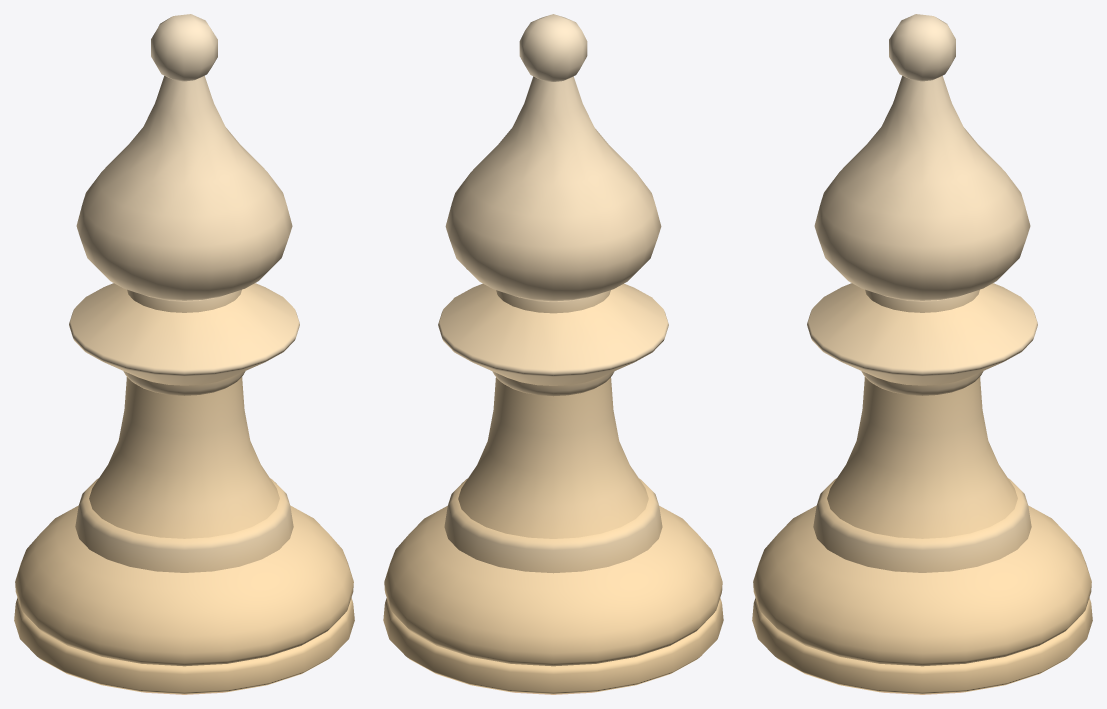
Rendered from Chess_White_Bishop_01.glb.
3 renders of one model, left to right at view 1: azimuth 30°, elevation 25°; view 2: azimuth 150°, elevation 25°; view 3: azimuth 270°, elevation 25°, orthographic.
Parts seen in each view (by area): view 1: Chess_White_Bishop_01; view 2: Chess_White_Bishop_01; view 3: Chess_White_Bishop_01.
Boxes of the visible parts, x1,y1,x2,y2 form: Chess_White_Bishop_01: (14, 14, 354, 694); Chess_White_Bishop_01: (383, 14, 723, 694); Chess_White_Bishop_01: (752, 14, 1092, 694).
Size of the model in its own units: 0.0364 by 0.0721 by 0.0364.
Materials: 2 (2 with a texture image).
